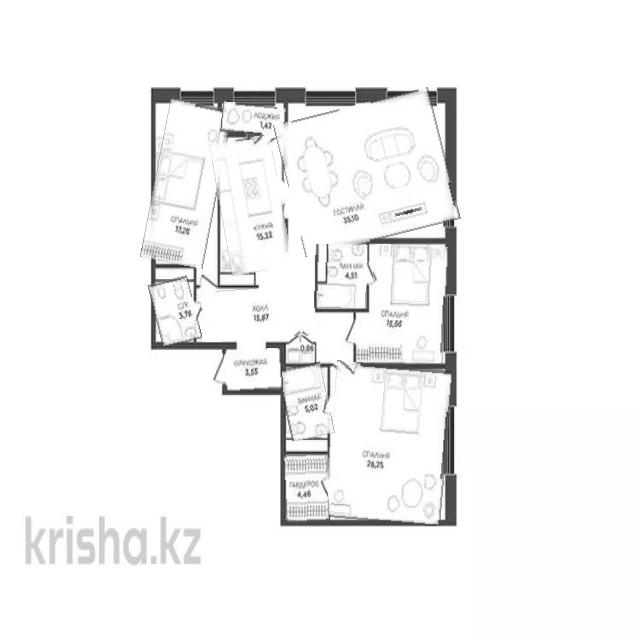balcony: (220, 103, 287, 136)
bathroom: (281, 363, 331, 440), (314, 245, 368, 309), (151, 277, 198, 346)
hallway: (201, 286, 312, 341), (224, 349, 283, 393)
kitchen: (214, 136, 288, 274)
living_room: (280, 96, 454, 248), (327, 363, 450, 524), (148, 100, 226, 267), (370, 245, 448, 363)
other: (284, 454, 329, 524)
